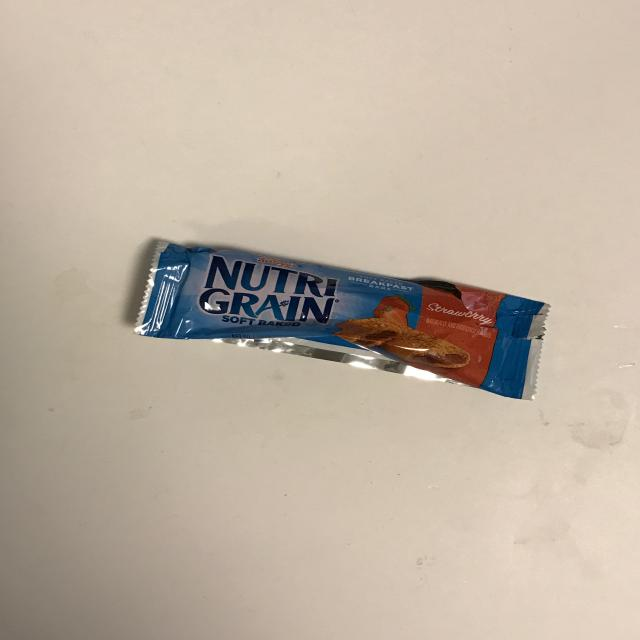trash: (133, 241, 549, 400)
